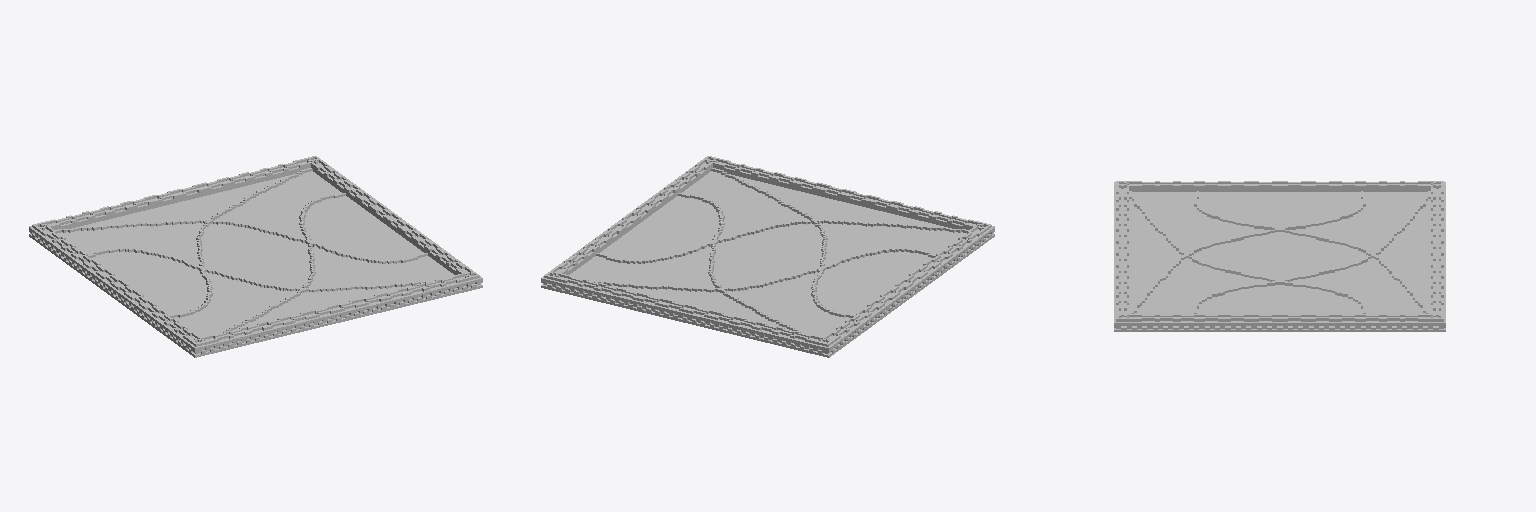
The model's file is tile.obj.
The picture shows the model from 3 angles: view 1: azimuth 30°, elevation 25°; view 2: azimuth 150°, elevation 25°; view 3: azimuth 270°, elevation 25°; orthographic projection.
Visible parts, largest first — view 1: object 1; view 2: object 1; view 3: object 1.
Part boxes in pixels (left/top/right/bottom): object 1: left=29, top=156, right=482, bottom=357; object 1: left=541, top=156, right=994, bottom=357; object 1: left=1114, top=181, right=1445, bottom=331.
Size of the model in its own units: 12.8 by 0.5 by 12.8.